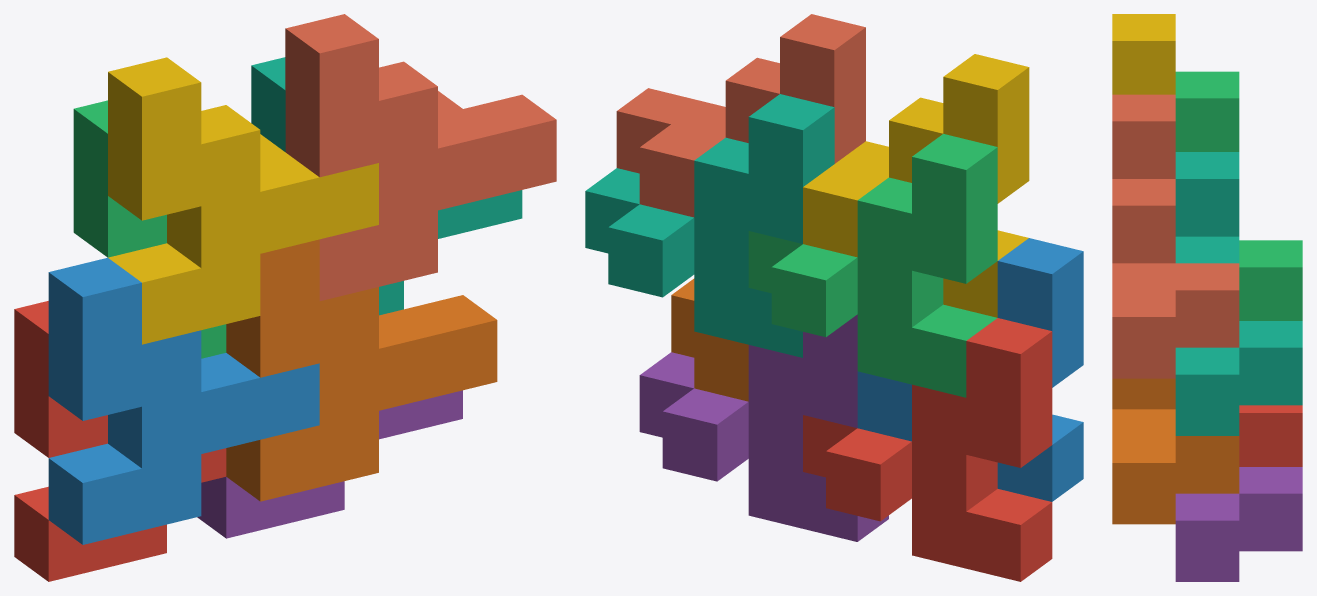
File: tiling.obj
3 views of the same model, side by side, from view 1: azimuth 30°, elevation 25°; view 2: azimuth 150°, elevation 25°; view 3: azimuth 270°, elevation 25° (orthographic). The views are drawn at different scales.
Parts seen in each view (by area): view 1: copy_1_domain_2, copy_1_domain_4, copy_1_domain_8, copy_1_domain_6, copy_1_domain_1, copy_1_domain_3, copy_1_domain_5, copy_1_domain_7; view 2: copy_1_domain_1, copy_1_domain_3, copy_1_domain_7, copy_1_domain_5, copy_1_domain_8, copy_1_domain_4, copy_1_domain_2, copy_1_domain_6; view 3: copy_1_domain_8, copy_1_domain_7, copy_1_domain_6, copy_1_domain_5, copy_1_domain_3, copy_1_domain_4, copy_1_domain_1.
Part boxes in pixels (x1=…): copy_1_domain_2: x1=48, y1=257, x2=319, y2=544; copy_1_domain_4: x1=108, y1=57, x2=378, y2=344; copy_1_domain_8: x1=285, y1=14, x2=556, y2=300; copy_1_domain_6: x1=226, y1=239, x2=497, y2=501; copy_1_domain_1: x1=14, y1=301, x2=226, y2=581; copy_1_domain_3: x1=73, y1=100, x2=226, y2=358; copy_1_domain_5: x1=197, y1=390, x2=462, y2=538; copy_1_domain_7: x1=251, y1=57, x2=522, y2=315; copy_1_domain_1: x1=803, y1=318, x2=1052, y2=581; copy_1_domain_3: x1=748, y1=134, x2=997, y2=397; copy_1_domain_7: x1=585, y1=94, x2=834, y2=357; copy_1_domain_5: x1=639, y1=314, x2=888, y2=541; copy_1_domain_8: x1=616, y1=14, x2=865, y2=217; copy_1_domain_4: x1=803, y1=54, x2=1029, y2=317; copy_1_domain_2: x1=857, y1=238, x2=1083, y2=501; copy_1_domain_6: x1=671, y1=278, x2=748, y2=401; copy_1_domain_8: x1=1112, y1=94, x2=1239, y2=378; copy_1_domain_7: x1=1175, y1=152, x2=1302, y2=435; copy_1_domain_6: x1=1112, y1=378, x2=1239, y2=524; copy_1_domain_5: x1=1175, y1=467, x2=1302, y2=581; copy_1_domain_3: x1=1175, y1=71, x2=1302, y2=320; copy_1_domain_4: x1=1112, y1=14, x2=1175, y2=94; copy_1_domain_1: x1=1239, y1=405, x2=1302, y2=466.
Size of the model in its own units: 8 by 8 by 3.
